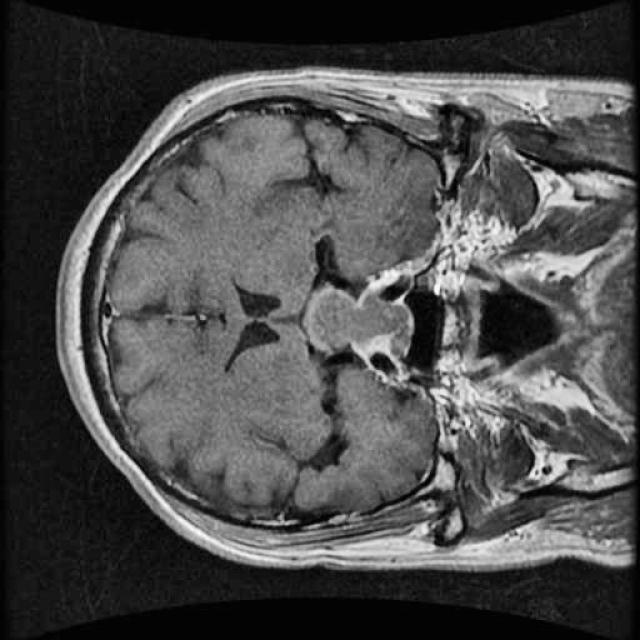Tumor: (298, 271, 428, 385)
